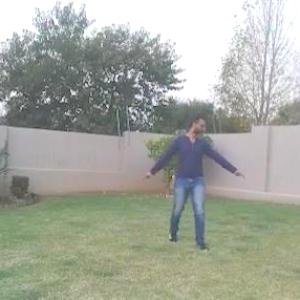land: (140, 102, 248, 250)
